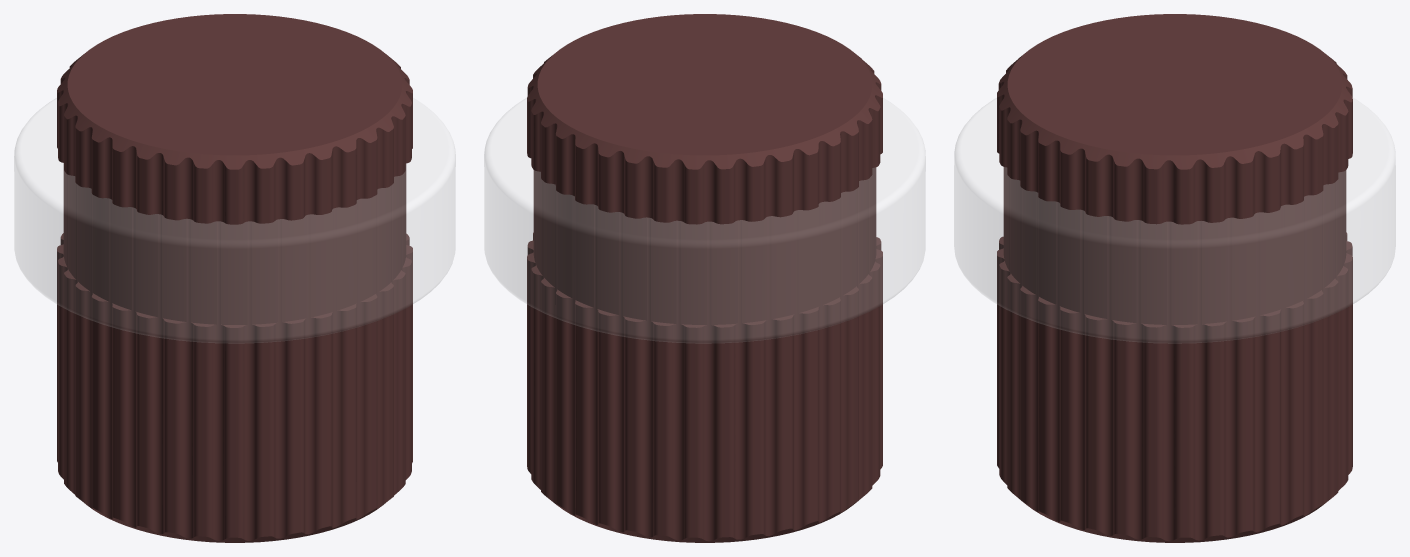
Rendered from topered.glb.
The picture shows the model from 3 angles, left to right: view 1: azimuth 30°, elevation 25°; view 2: azimuth 150°, elevation 25°; view 3: azimuth 270°, elevation 25°; orthographic projection.
Visible parts, largest first — view 1: Mesh_1, Mesh_0; view 2: Mesh_1, Mesh_0; view 3: Mesh_1, Mesh_0.
Part boxes in pixels (x1,y1,x2,y2): Mesh_1: [57, 14, 412, 542]; Mesh_0: [14, 98, 455, 343]; Mesh_1: [527, 14, 882, 542]; Mesh_0: [484, 98, 925, 343]; Mesh_1: [997, 14, 1352, 542]; Mesh_0: [954, 98, 1395, 343].
Bounding box in the file's own units: 0.031 × 0.03 × 0.031.
